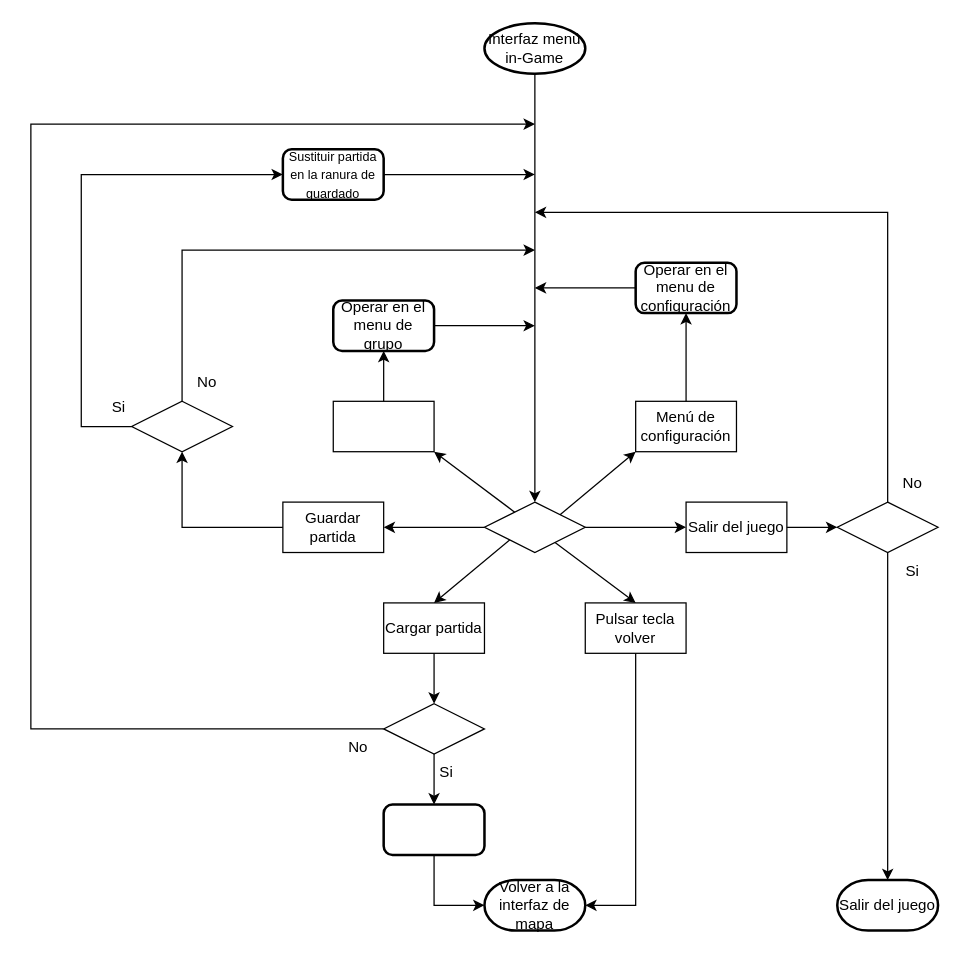
Some shapes in this 973 by 954 pixel diagram are drawn without their labels. Here are the shapes that lost their labels. From the top down, the centre of each, then its label:
the point at 181,426: Confirmacion de guardado
the point at 383,426: Menú de grupo
the point at 534,527: Seleccionar opcion
the point at 887,527: Confirmacion de salida
the point at 433,728: Confirmacion de carga
the point at 433,829: Cargar partida guardada
